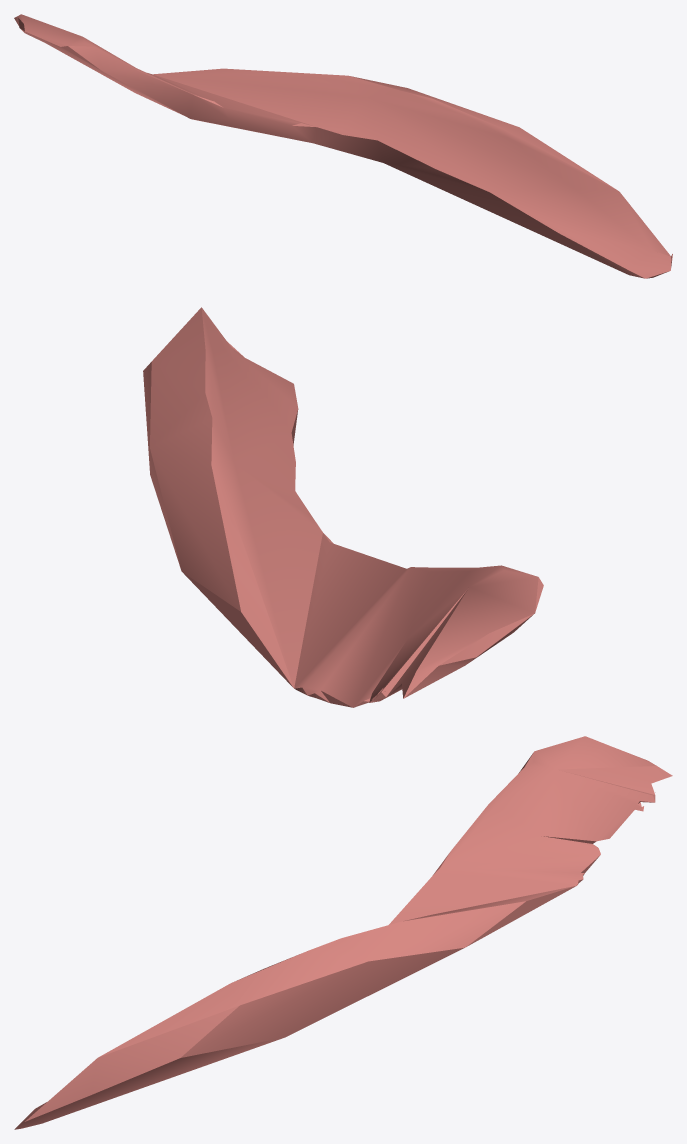
File: fma86035_fj1399m.glb
3 renders of one model, top to bottom at view 1: azimuth 30°, elevation 25°; view 2: azimuth 150°, elevation 25°; view 3: azimuth 270°, elevation 25°, orthographic. The views are drawn at different scales.
Parts seen in each view (by area): view 1: FMA86035_FJ1399M; view 2: FMA86035_FJ1399M; view 3: FMA86035_FJ1399M.
Boxes of the visible parts, x1,y1,x2,y2 form: FMA86035_FJ1399M: (14, 14, 672, 278); FMA86035_FJ1399M: (143, 307, 543, 707); FMA86035_FJ1399M: (14, 736, 672, 1129).
Size of the model in its own units: 0.0294 by 0.0111 by 0.0366.
